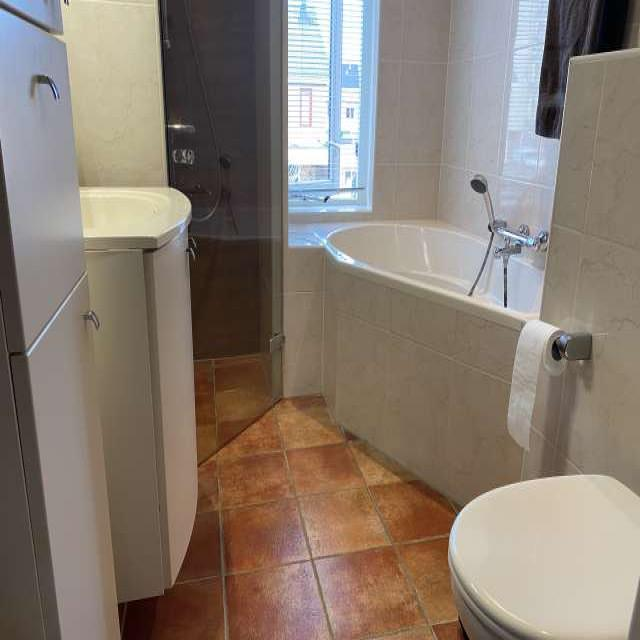bath: (288, 219, 544, 512)
douche: (156, 1, 290, 468)
toilet: (447, 471, 640, 640)
wastafel: (83, 249, 215, 603), (72, 184, 198, 250)
